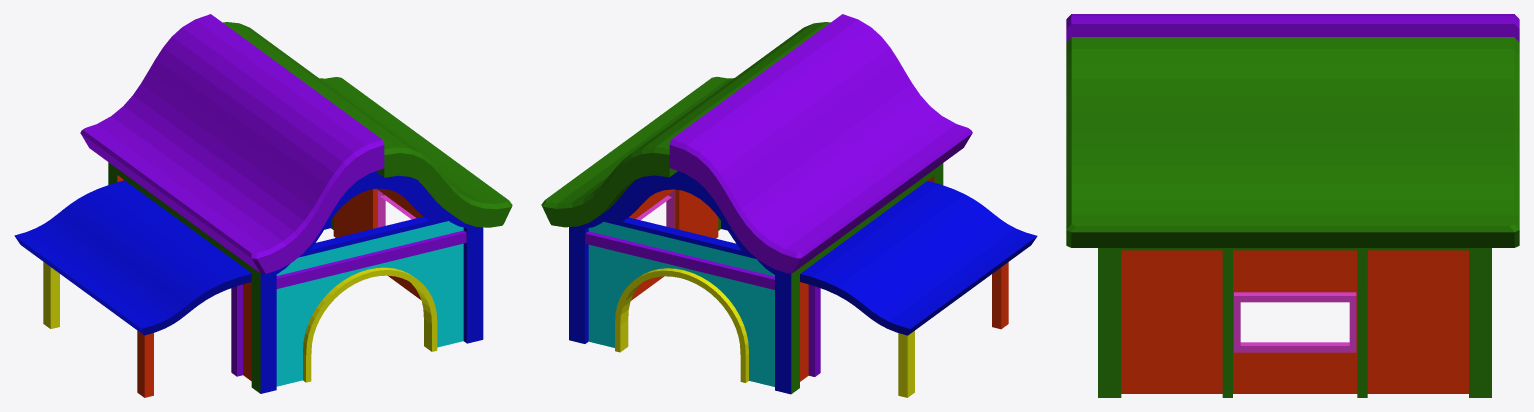
The model's file is barn.fbx.
3 renders of one model, left to right at view 1: azimuth 30°, elevation 25°; view 2: azimuth 150°, elevation 25°; view 3: azimuth 270°, elevation 25°, orthographic. The views are drawn at different scales.
Visible parts, largest first — view 1: BézierCurve.002, BézierCircle, BézierCurve.001, BézierCurve, Cube.001; view 2: BézierCurve.002, BézierCircle, BézierCurve.001, BézierCurve, Cube; view 3: BézierCurve, BézierCircle, BézierCurve.002.
Boxes of the visible parts, <box> form: BézierCurve.002: <box>80,14,384,273</box>; BézierCircle: <box>108,162,483,393</box>; BézierCurve.001: <box>14,180,251,397</box>; BézierCurve: <box>223,22,512,227</box>; Cube.001: <box>276,230,466,288</box>; BézierCurve.002: <box>669,14,972,273</box>; BézierCircle: <box>569,163,943,394</box>; BézierCurve.001: <box>800,181,1037,397</box>; BézierCurve: <box>541,22,830,227</box>; Cube: <box>585,231,774,289</box>; BézierCurve: <box>1066,37,1519,247</box>; BézierCircle: <box>1098,248,1491,397</box>; BézierCurve.002: <box>1066,14,1519,41</box>.
Bounding box in the file's own units: 474 × 305 × 413.
